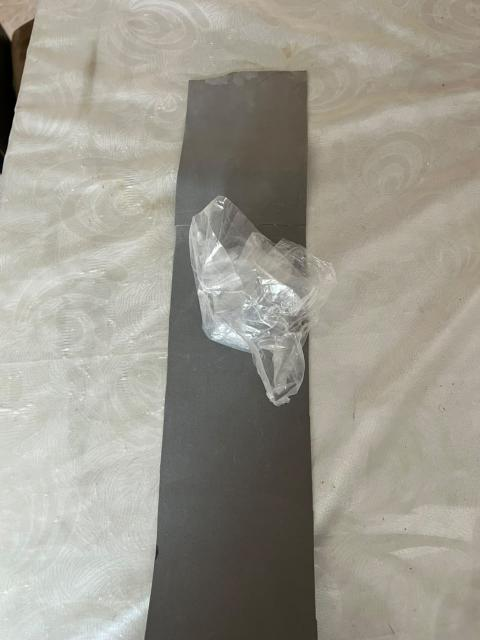LDPE: (151, 155, 382, 476)
